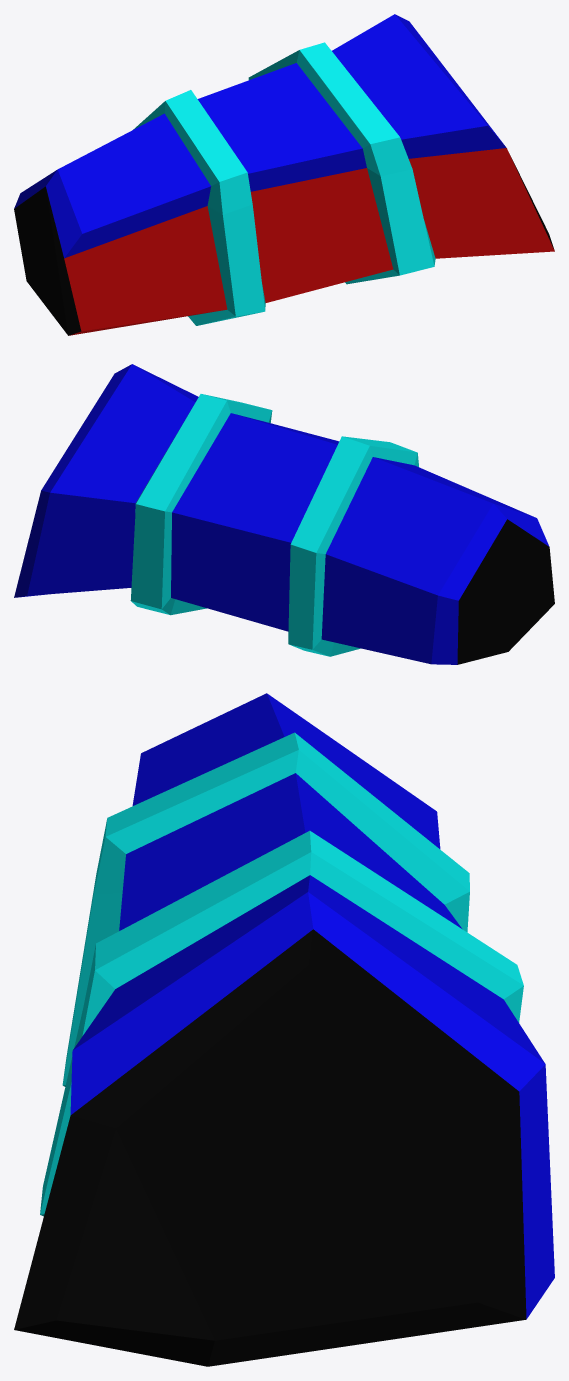
The model's file is Chr_ArmUpperRight_Male_Static_07.fbx.
3 views of the same model, one above another, from view 1: azimuth 30°, elevation 25°; view 2: azimuth 150°, elevation 25°; view 3: azimuth 270°, elevation 25° (orthographic). The views are drawn at different scales.
Visible parts, largest first — view 1: Chr_ArmUpperRight_Male_07; view 2: Chr_ArmUpperRight_Male_07; view 3: Chr_ArmUpperRight_Male_07.
Boxes of the visible parts, x1,y1,x2,y2 form: Chr_ArmUpperRight_Male_07: (14,14,554,335); Chr_ArmUpperRight_Male_07: (14,364,554,664); Chr_ArmUpperRight_Male_07: (14,693,554,1366).
Size of the model in its own units: 33.07 by 16.7 by 18.32.
